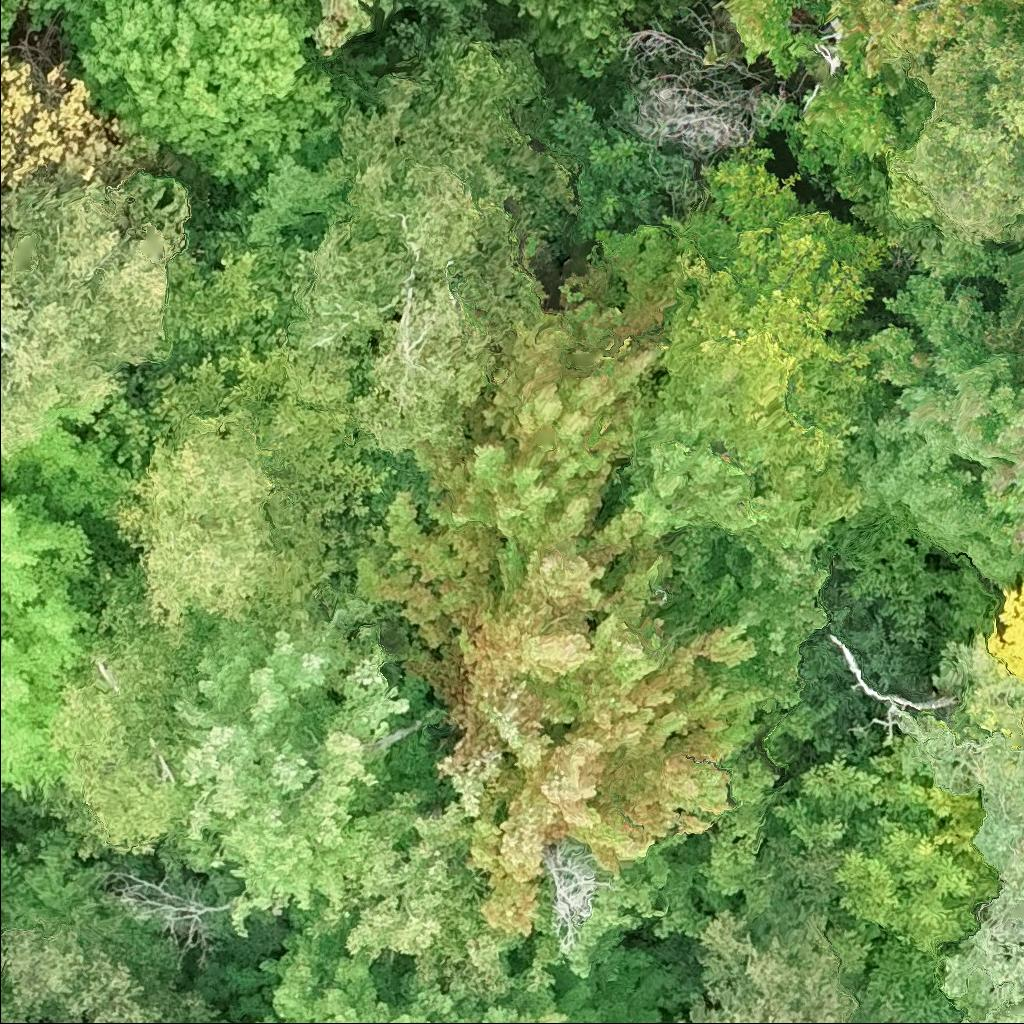crown: (399, 491, 779, 879), (355, 263, 673, 652), (280, 27, 568, 452), (599, 142, 893, 522), (172, 595, 453, 939), (107, 336, 393, 650), (29, 0, 354, 193), (769, 732, 997, 1002), (843, 272, 1023, 594), (30, 557, 220, 859), (0, 168, 189, 455), (346, 801, 520, 1005), (884, 13, 1023, 250), (0, 471, 99, 801), (388, 930, 674, 1023), (191, 916, 435, 1023), (624, 0, 764, 166), (673, 906, 858, 1023), (519, 861, 671, 997), (467, 754, 570, 940), (831, 0, 1023, 80), (0, 923, 148, 1023), (493, 0, 629, 77), (722, 0, 817, 82), (273, 0, 369, 58), (984, 578, 1023, 686), (610, 0, 687, 29), (0, 0, 20, 33), (199, 1016, 234, 1023)
